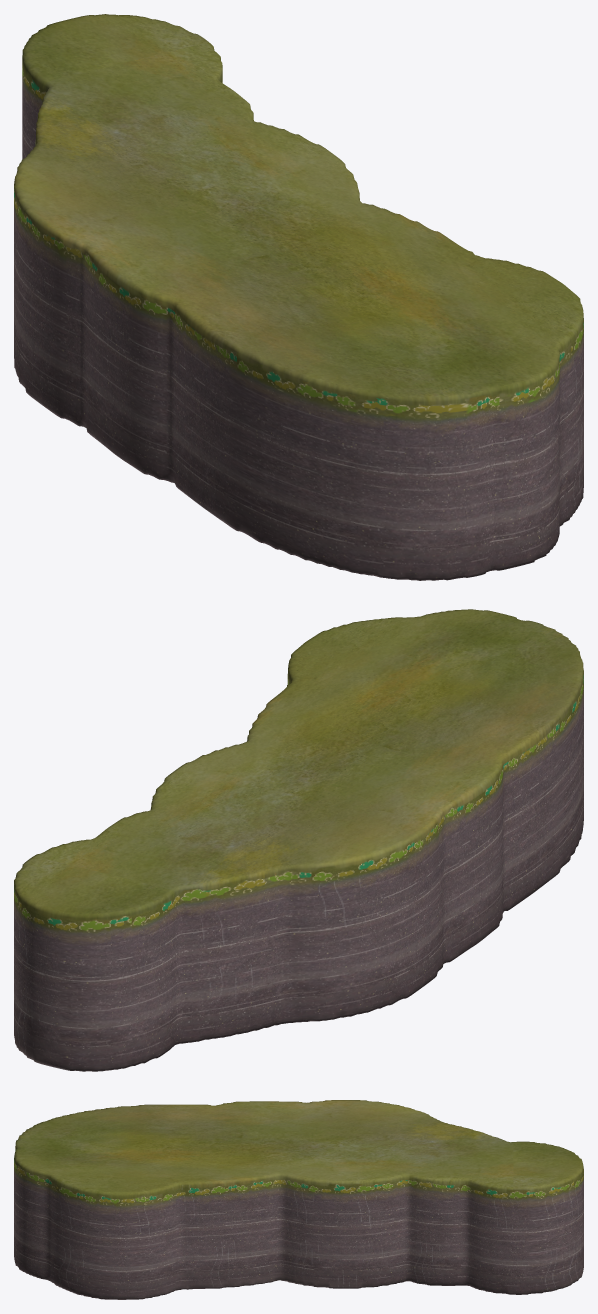
The model's file is plateau.fbx.
3 views of the same model, one above another, from view 1: azimuth 30°, elevation 25°; view 2: azimuth 150°, elevation 25°; view 3: azimuth 270°, elevation 25° (orthographic). The views are drawn at different scales.
Parts seen in each view (by area): view 1: Cylinder; view 2: Cylinder; view 3: Cylinder.
Boxes of the visible parts, bbox=[...] form: Cylinder: bbox=[14, 14, 583, 580]; Cylinder: bbox=[14, 609, 583, 1071]; Cylinder: bbox=[14, 1100, 583, 1299].
Bounding box in the file's own units: 355 × 187 × 901.
Materials: 1 (1 with a texture image).
